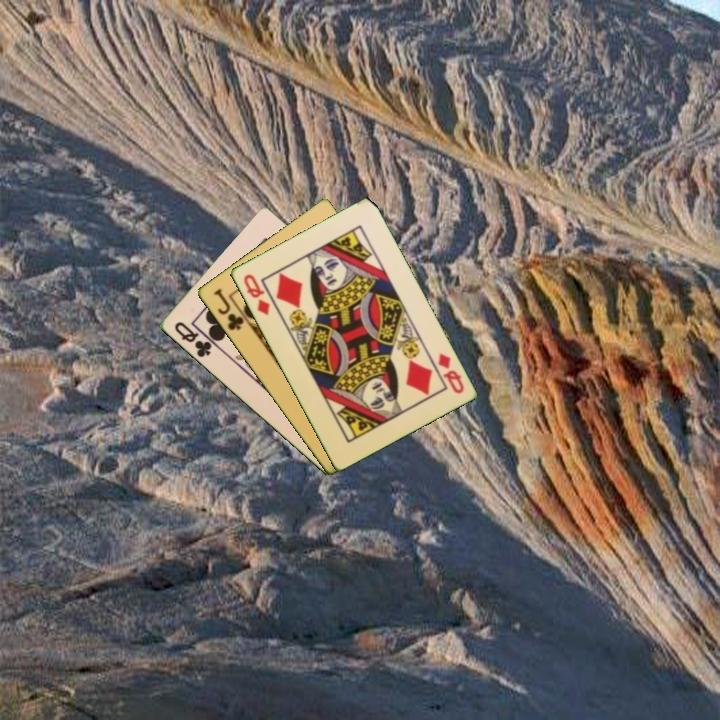Jc: (209, 285, 246, 334)
Qc: (170, 318, 214, 361)
Qd: (239, 270, 272, 318), (434, 349, 467, 397)
